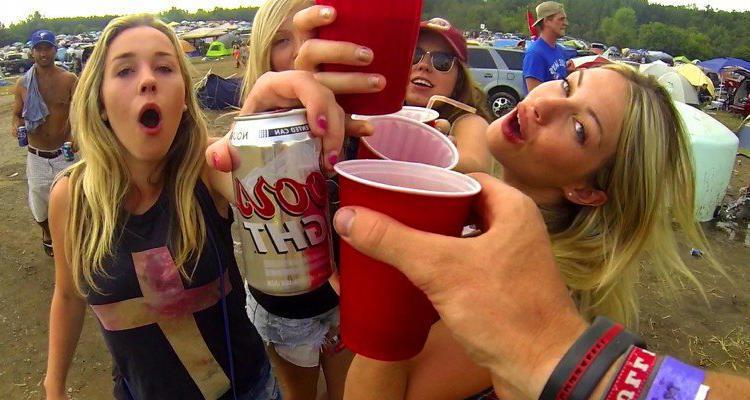Drunk: (487, 77, 625, 165), (104, 29, 186, 157)
